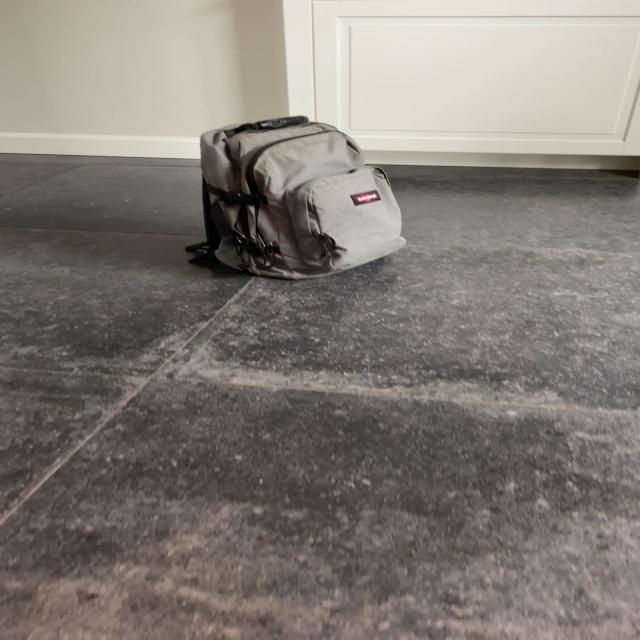backpack: (182, 110, 416, 284)
